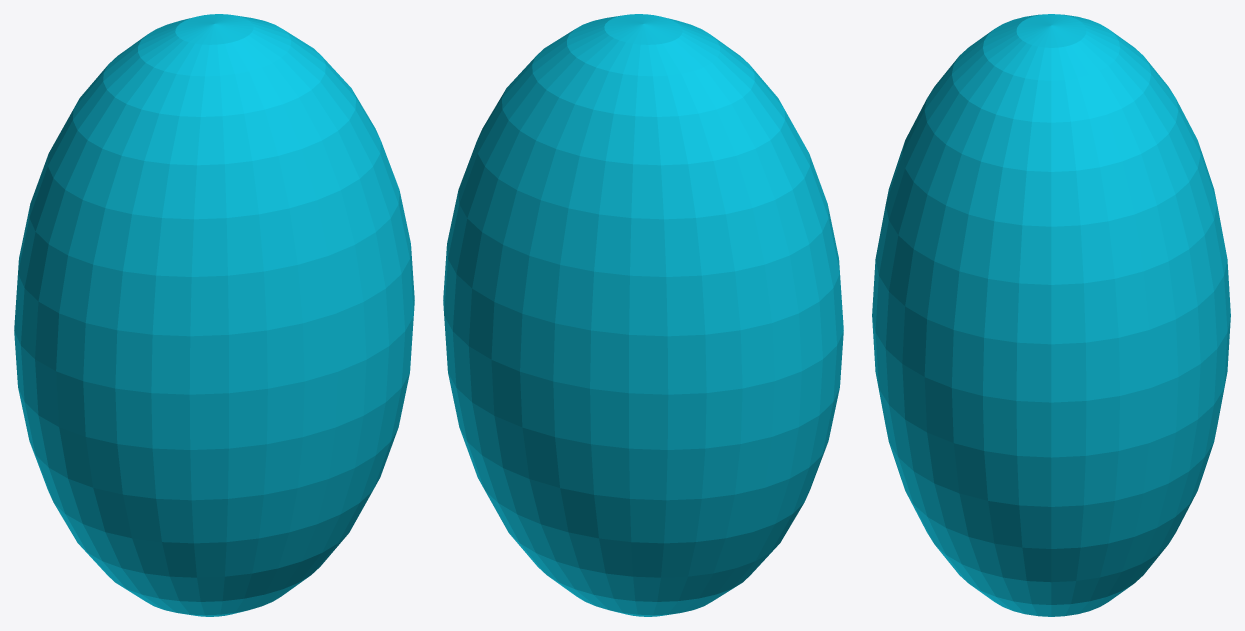
Rendered from TearModel.gltf.
3 renders of one model, left to right at view 1: azimuth 30°, elevation 25°; view 2: azimuth 150°, elevation 25°; view 3: azimuth 270°, elevation 25°, orthographic.
Parts seen in each view (by area): view 1: Sphere; view 2: Sphere; view 3: Sphere.
Part boxes in pixels (left/top/right/bottom): Sphere: left=14, top=14, right=414, bottom=616; Sphere: left=443, top=14, right=843, bottom=616; Sphere: left=872, top=14, right=1230, bottom=616.
Size of the model in its own units: 0.4809 by 0.7467 by 0.4186.
